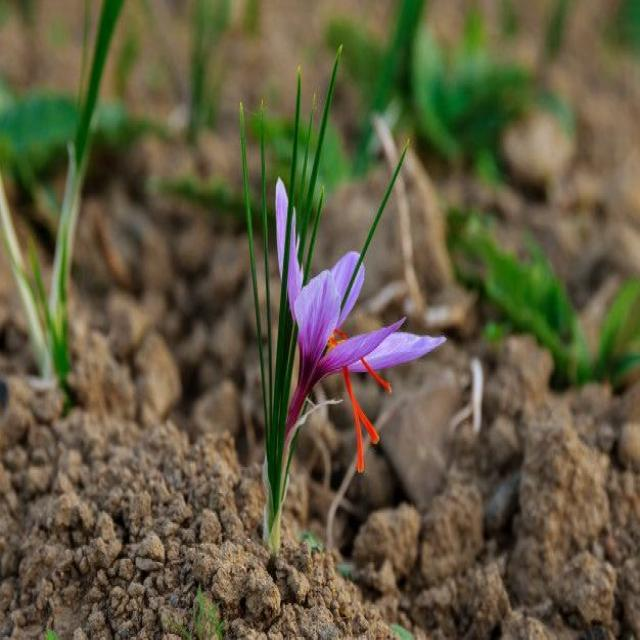Flower: (268, 172, 466, 383)
stigma: (341, 362, 366, 472), (360, 352, 396, 395)
